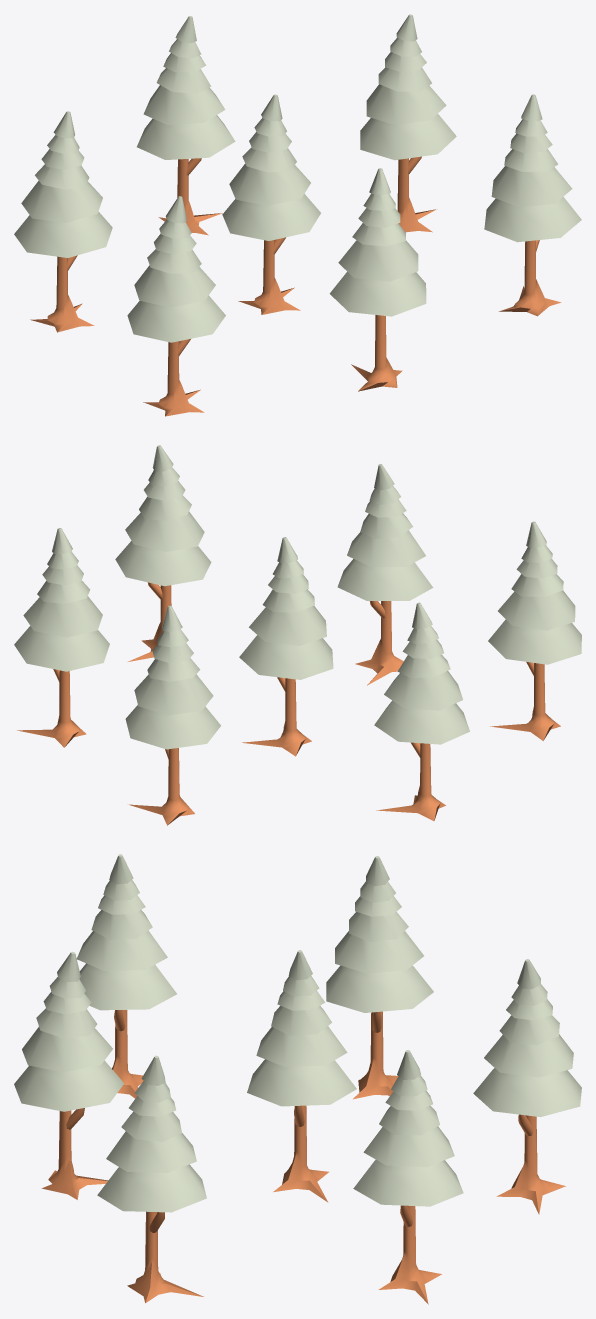
The model's file is trees.fbx.
3 views of the same model, one above another, from view 1: azimuth 30°, elevation 25°; view 2: azimuth 150°, elevation 25°; view 3: azimuth 270°, elevation 25° (orthographic). The views are drawn at different scales.
Visible parts, largest first — view 1: Cone.006; view 2: Cone.006; view 3: Cone.006.
Boxes of the visible parts, x1,y1,x2,y2 form: Cone.006: [14, 14, 581, 416]; Cone.006: [14, 445, 581, 825]; Cone.006: [14, 854, 581, 1304].
Size of the model in its own units: 91.68 by 40.56 by 88.61.
